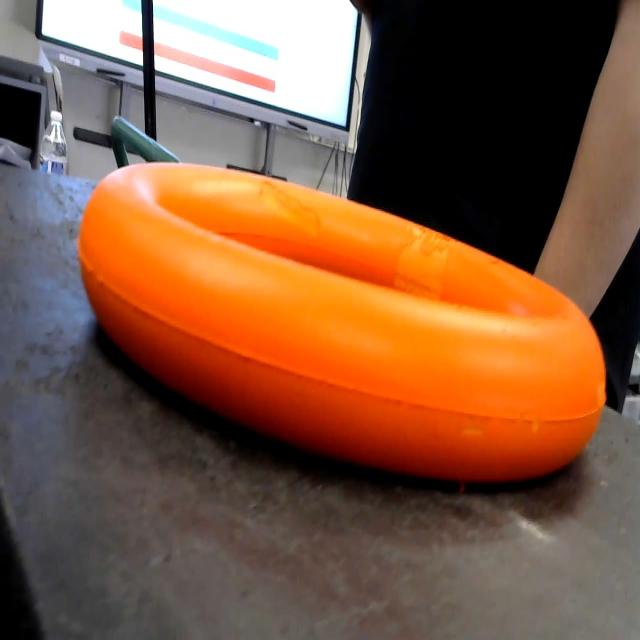note: (71, 120, 621, 505)
